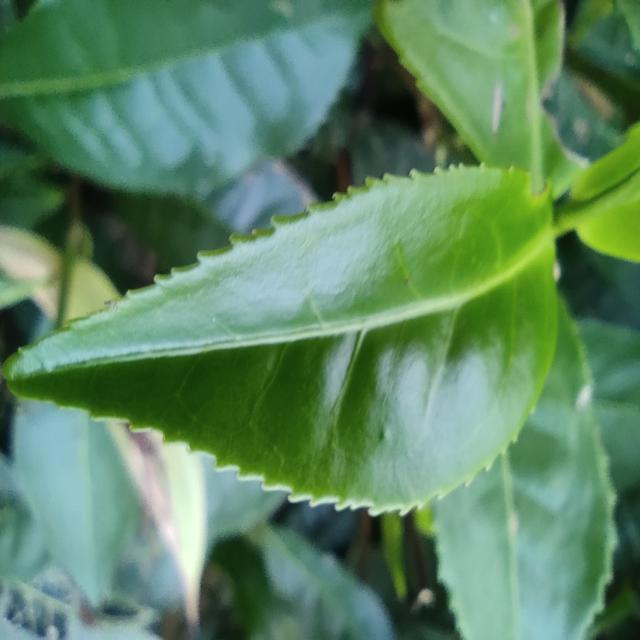Category C(4-7 days): (0, 137, 579, 524)
